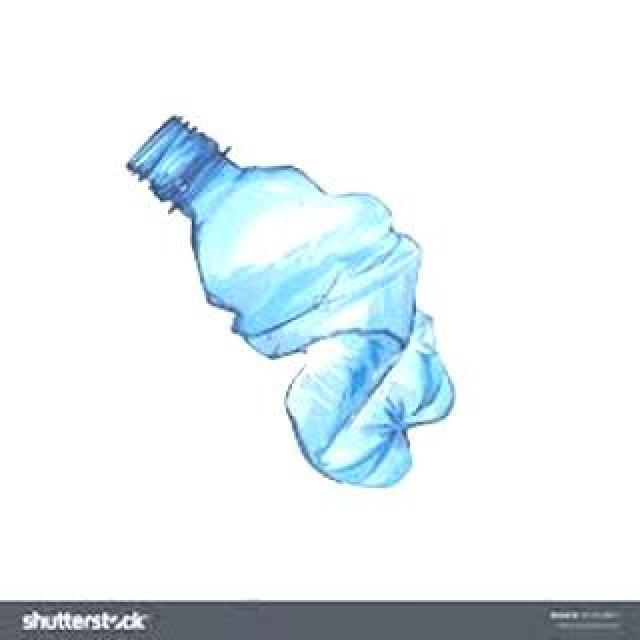Pet_Bottle: (125, 105, 463, 495)
